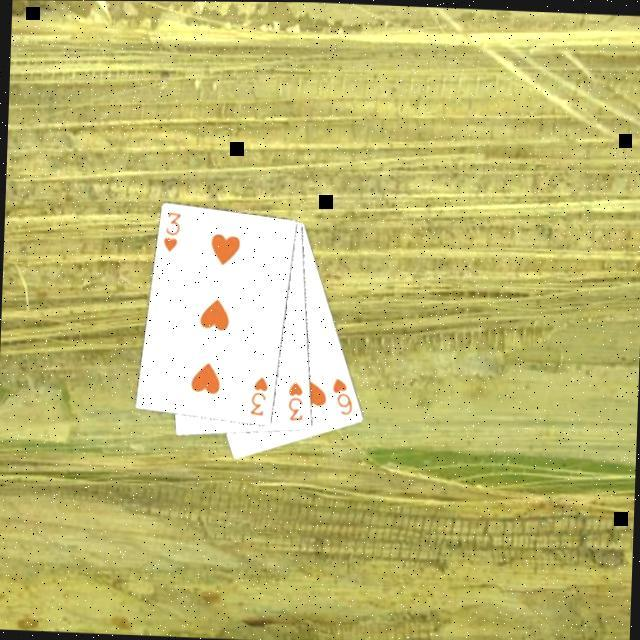3H: (246, 372, 272, 418), (160, 208, 184, 254), (286, 377, 308, 422)
6H: (329, 374, 356, 416)
